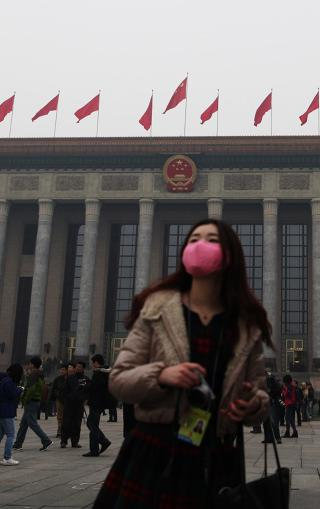face_mask: (183, 222, 223, 279)
